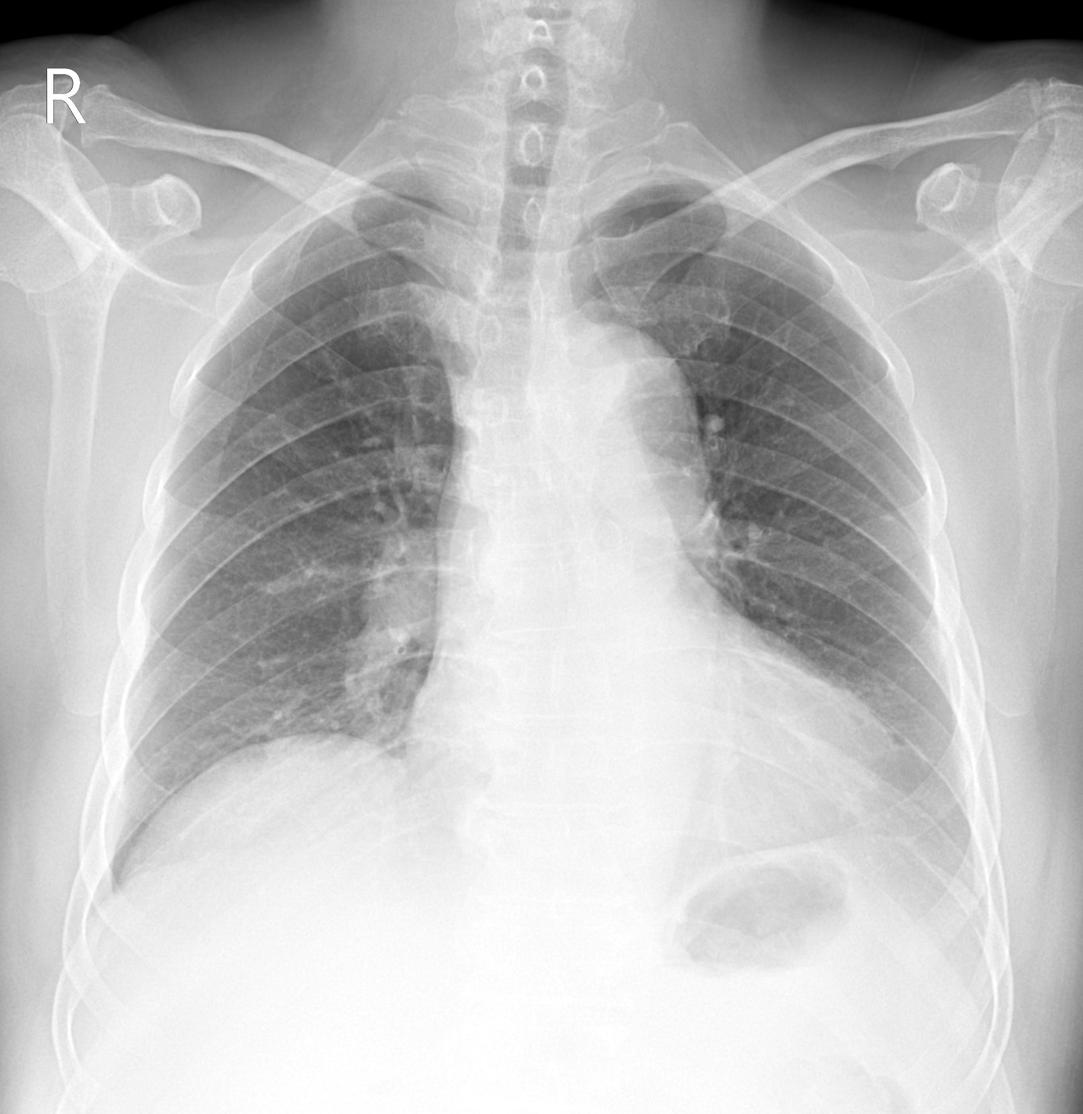Aortic enlargement: (533, 326, 699, 470)
Cardiomegaly: (400, 694, 901, 816)
